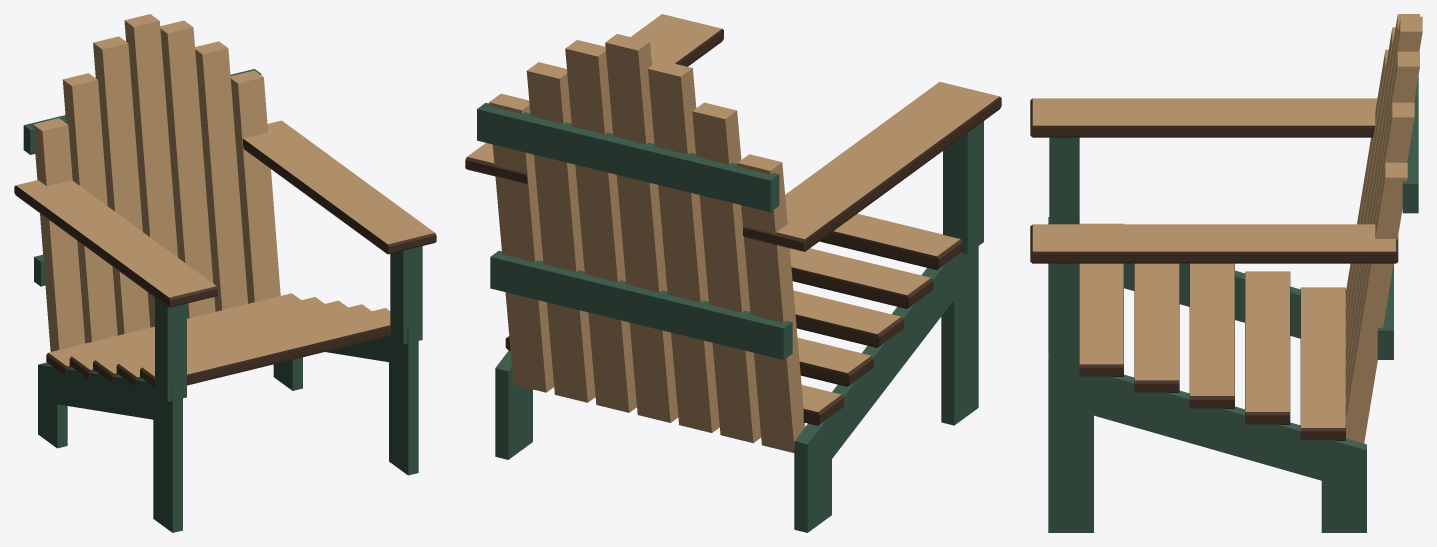
Rendered from FN_Chair_Adirondack.glb.
3 renders of one model, left to right at view 1: azimuth 30°, elevation 25°; view 2: azimuth 150°, elevation 25°; view 3: azimuth 270°, elevation 25°, orthographic. The views are drawn at different scales.
Visible parts, largest first — view 1: FN_Chair_Adirondack; view 2: FN_Chair_Adirondack; view 3: FN_Chair_Adirondack.
Part boxes in pixels (x1=…): FN_Chair_Adirondack: x1=14, y1=14, x2=436, y2=532; FN_Chair_Adirondack: x1=465, y1=14, x2=1001, y2=532; FN_Chair_Adirondack: x1=1030, y1=14, x2=1422, y2=532.
Size of the model in its own units: 0.72 by 0.955 by 0.776.
Materials: 1 (1 with a texture image).
